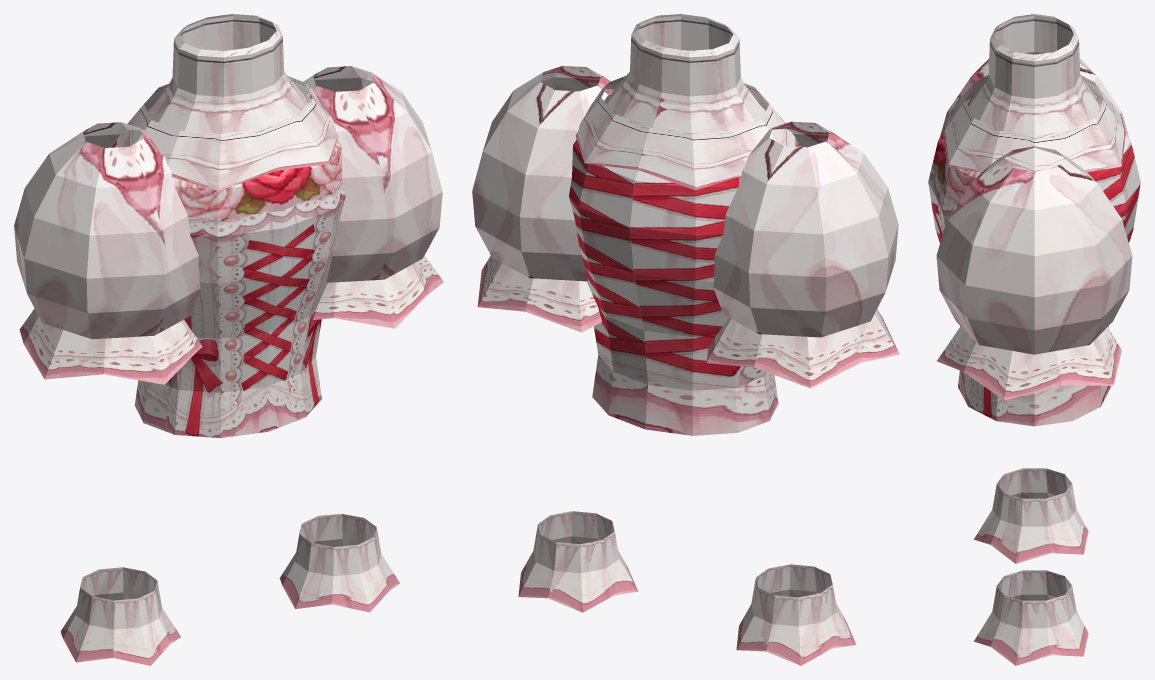
Rendered from outfit_top.obj.
3 renders of one model, left to right at view 1: azimuth 30°, elevation 25°; view 2: azimuth 150°, elevation 25°; view 3: azimuth 270°, elevation 25°, orthographic. The views are drawn at different scales.
Visible parts, largest first — view 1: top_bodice_chest, top_puff_sleeve_sh_R, top_puff_sleeve_sh_L, top_neckline_frill_chest, top_wrist_cuff_el_R, top_wrist_cuff_el_L, top_sleeve_frill_sh_R, top_sleeve_frill_sh_L; view 2: top_bodice_chest, top_puff_sleeve_sh_R, top_puff_sleeve_sh_L, top_neckline_frill_chest, top_wrist_cuff_el_R, top_wrist_cuff_el_L, top_sleeve_frill_sh_R, top_sleeve_frill_sh_L; view 3: top_puff_sleeve_sh_L, top_bodice_chest, top_neckline_frill_chest, top_wrist_cuff_el_L, top_wrist_cuff_el_R, top_sleeve_frill_sh_L, top_puff_sleeve_sh_R.
Part boxes in pixels (x1,y1,x2,y2): top_bodice_chest: (111,14,345,437); top_puff_sleeve_sh_R: (14,122,200,339); top_puff_sleeve_sh_L: (299,66,442,282); top_neckline_frill_chest: (116,76,338,191); top_wrist_cuff_el_R: (60,567,180,665); top_wrist_cuff_el_L: (279,514,399,612); top_sleeve_frill_sh_R: (19,309,202,384); top_sleeve_frill_sh_L: (313,255,443,328); top_bodice_chest: (569,14,801,435); top_puff_sleeve_sh_R: (713,121,898,337); top_puff_sleeve_sh_L: (472,65,613,281); top_neckline_frill_chest: (575,76,796,190); top_wrist_cuff_el_R: (736,564,856,665); top_wrist_cuff_el_L: (518,511,638,612); top_sleeve_frill_sh_R: (706,309,899,388); top_sleeve_frill_sh_L: (477,255,601,332); top_puff_sleeve_sh_L: (936,146,1132,354); top_bodice_chest: (928,14,1140,426); top_neckline_frill_chest: (943,75,1125,172); top_wrist_cuff_el_L: (974,570,1088,665); top_wrist_cuff_el_R: (974,468,1088,563); top_sleeve_frill_sh_L: (937,326,1121,400); top_puff_sleeve_sh_R: (940,58,1128,136).
Size of the model in its own units: 0.298 by 0.407 by 0.141.
Materials: 1 (1 with a texture image).
